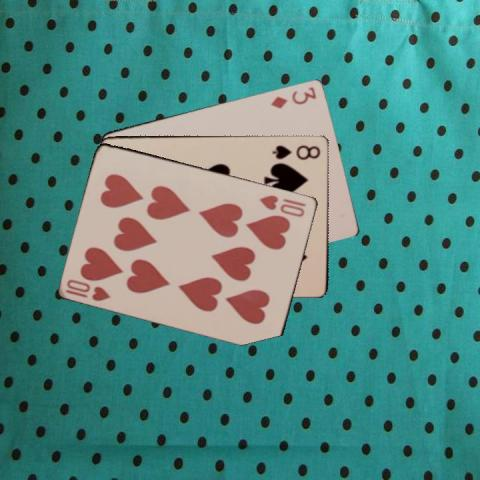10h: (257, 192, 308, 219), (63, 276, 112, 303)
3d: (268, 84, 318, 110)
8s: (270, 142, 322, 160)
